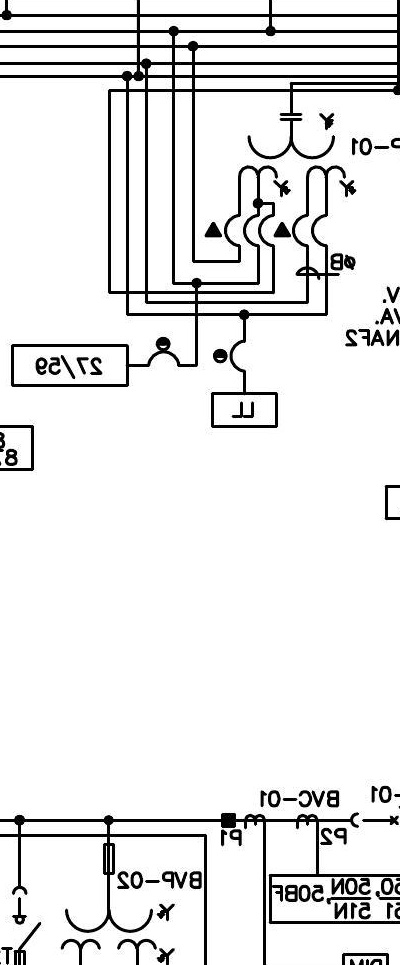115_cvt_3p: (237, 113, 357, 198)
LL: (211, 392, 278, 428)
